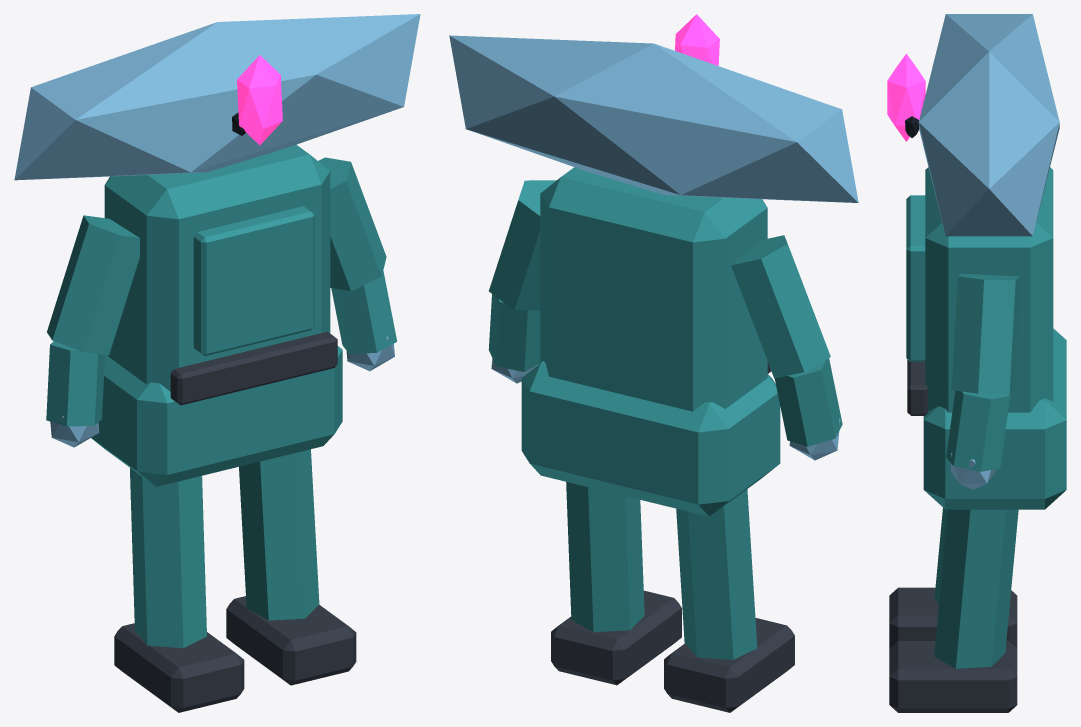
Rendered from npcs_023_seed78877.glb.
3 renders of one model, left to right at view 1: azimuth 30°, elevation 25°; view 2: azimuth 150°, elevation 25°; view 3: azimuth 270°, elevation 25°, orthographic. The views are drawn at different scales.
Parts seen in each view (by area): view 1: npcs_023_seed78877; view 2: npcs_023_seed78877; view 3: npcs_023_seed78877.
Part boxes in pixels (<box>): npcs_023_seed78877: <box>14,14,420,712</box>; npcs_023_seed78877: <box>449,14,858,712</box>; npcs_023_seed78877: <box>887,14,1066,712</box>.
Size of the model in its own units: 1.15 by 1.72 by 0.4503.
